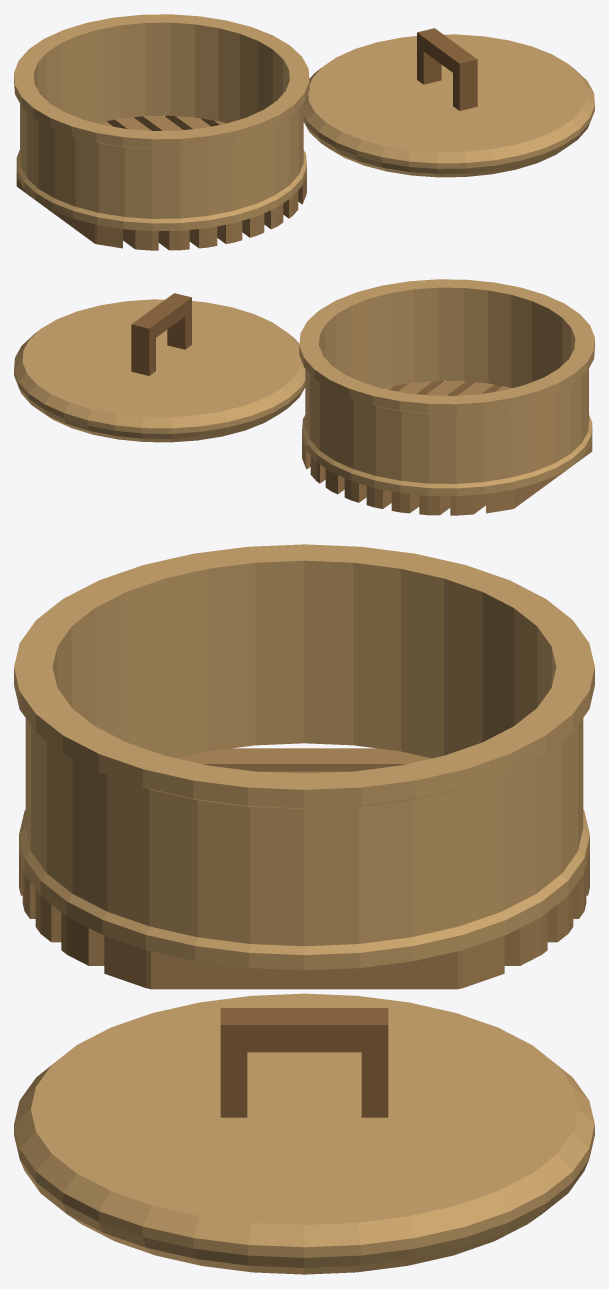
3 renders of one model, top to bottom at view 1: azimuth 30°, elevation 25°; view 2: azimuth 150°, elevation 25°; view 3: azimuth 270°, elevation 25°, orthographic. The views are drawn at different scales.
Parts seen in each view (by area): view 1: ThickCircular_BambooBody, SolidChamfered_DisplayLid, RaisedU_BambooLidHandle, FiniteBottomBambooSlat_01, FiniteBottomBambooSlat_07, FiniteBottomBambooSlat_06, FiniteBottomBambooSlat_08, FiniteBottomBambooSlat_02, FiniteBottomBambooSlat_03, FiniteBottomBambooSlat_04, FiniteBottomBambooSlat_05; view 2: ThickCircular_BambooBody, SolidChamfered_DisplayLid, RaisedU_BambooLidHandle, FiniteBottomBambooSlat_01, FiniteBottomBambooSlat_07, FiniteBottomBambooSlat_06, FiniteBottomBambooSlat_08, FiniteBottomBambooSlat_02, FiniteBottomBambooSlat_03, FiniteBottomBambooSlat_04, FiniteBottomBambooSlat_05; view 3: ThickCircular_BambooBody, SolidChamfered_DisplayLid, FiniteBottomBambooSlat_09, RaisedU_BambooLidHandle, FiniteBottomBambooSlat_01, FiniteBottomBambooSlat_08, FiniteBottomBambooSlat_07, FiniteBottomBambooSlat_06.
Boxes of the visible parts, x1=… form: ThickCircular_BambooBody: x1=14, y1=14, x2=309, y2=231; SolidChamfered_DisplayLid: x1=303, y1=34, x2=594, y2=177; RaisedU_BambooLidHandle: x1=417, y1=28, x2=477, y2=110; FiniteBottomBambooSlat_01: x1=16, y1=169, x2=122, y2=248; FiniteBottomBambooSlat_07: x1=134, y1=116, x2=283, y2=229; FiniteBottomBambooSlat_06: x1=106, y1=117, x2=264, y2=237; FiniteBottomBambooSlat_08: x1=165, y1=115, x2=298, y2=218; FiniteBottomBambooSlat_02: x1=123, y1=229, x2=158, y2=250; FiniteBottomBambooSlat_03: x1=158, y1=230, x2=189, y2=250; FiniteBottomBambooSlat_04: x1=189, y1=226, x2=217, y2=248; FiniteBottomBambooSlat_05: x1=97, y1=121, x2=242, y2=243; ThickCircular_BambooBody: x1=299, y1=279, x2=594, y2=496; SolidChamfered_DisplayLid: x1=14, y1=299, x2=305, y2=442; RaisedU_BambooLidHandle: x1=131, y1=293, x2=191, y2=375; FiniteBottomBambooSlat_01: x1=486, y1=434, x2=592, y2=513; FiniteBottomBambooSlat_07: x1=325, y1=381, x2=474, y2=494; FiniteBottomBambooSlat_06: x1=344, y1=382, x2=502, y2=502; FiniteBottomBambooSlat_08: x1=310, y1=380, x2=443, y2=483; FiniteBottomBambooSlat_02: x1=450, y1=494, x2=485, y2=515; FiniteBottomBambooSlat_03: x1=419, y1=495, x2=450, y2=515; FiniteBottomBambooSlat_04: x1=391, y1=491, x2=419, y2=513; FiniteBottomBambooSlat_05: x1=366, y1=386, x2=511, y2=508; ThickCircular_BambooBody: x1=14, y1=544, x2=594, y2=970; SolidChamfered_DisplayLid: x1=14, y1=993, x2=594, y2=1274; FiniteBottomBambooSlat_09: x1=104, y1=936, x2=504, y2=989; RaisedU_BambooLidHandle: x1=220, y1=1008, x2=388, y2=1117; FiniteBottomBambooSlat_01: x1=177, y1=748, x2=431, y2=771; FiniteBottomBambooSlat_08: x1=61, y1=912, x2=547, y2=965; FiniteBottomBambooSlat_07: x1=35, y1=889, x2=573, y2=942; FiniteBottomBambooSlat_06: x1=22, y1=866, x2=586, y2=918.
Size of the model in its own units: 0.731 by 0.145 by 0.346.
